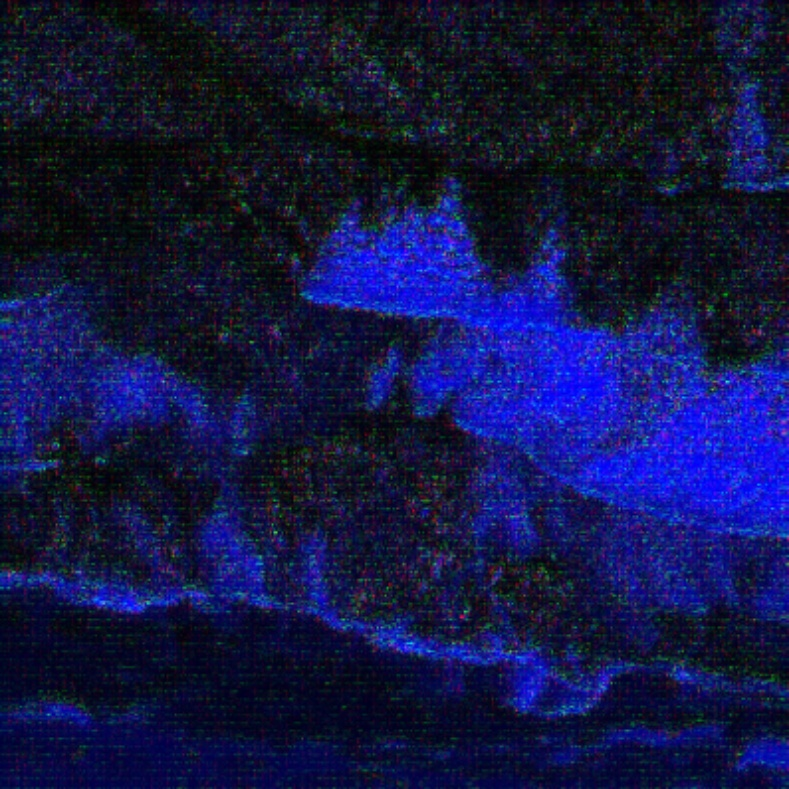rip_current: (91, 185, 540, 620)
